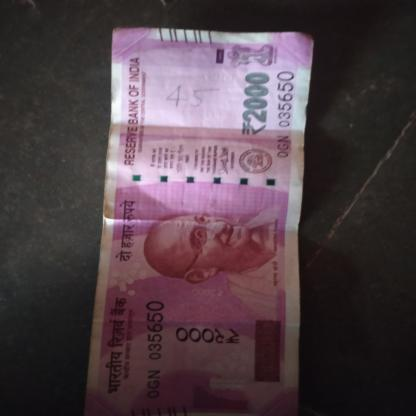New2000Front: (107, 29, 294, 415)
